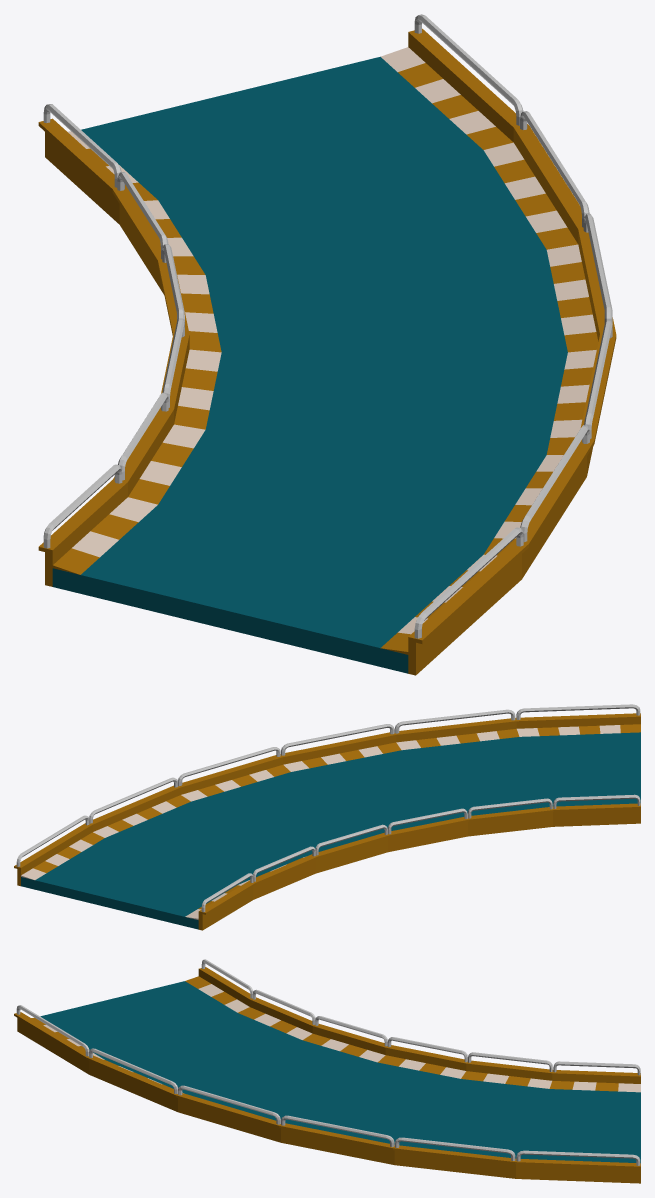
File: curveRight-60_l.FBX
3 renders of one model, top to bottom at view 1: azimuth 30°, elevation 25°; view 2: azimuth 150°, elevation 25°; view 3: azimuth 270°, elevation 25°, orthographic. The views are drawn at different scales.
Parts seen in each view (by area): view 1: curveRight-60_l, wall_l, curbs_l, wall_r, curbs_r; view 2: curveRight-60_l, wall_r, wall_l, curbs_l; view 3: curveRight-60_l, wall_l, wall_r, curbs_r.
Boxes of the visible parts, <box> form: curveRight-60_l: <box>52,56,567,673</box>; wall_l: <box>408,14,616,675</box>; curbs_l: <box>380,47,598,654</box>; wall_r: <box>38,104,189,586</box>; curbs_r: <box>52,131,221,574</box>; curveRight-60_l: <box>21,732,640,929</box>; wall_r: <box>198,794,640,930</box>; wall_l: <box>14,704,640,886</box>; curbs_l: <box>21,724,640,880</box>; curveRight-60_l: <box>40,981,640,1163</box>; wall_l: <box>14,1005,640,1183</box>; wall_r: <box>198,959,640,1083</box>; curbs_r: <box>185,976,640,1092</box>.
Size of what is drawn, in the model's own units: 442 by 29.31 by 586.
